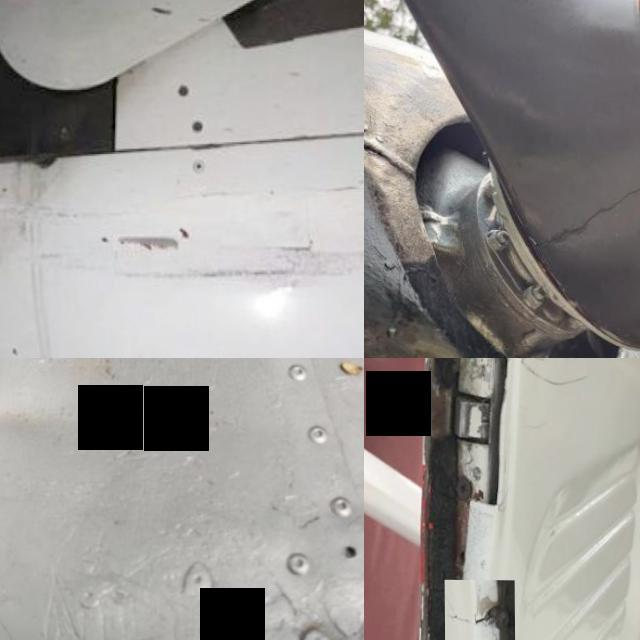Crack: (481, 358, 594, 543), (515, 152, 640, 263), (444, 579, 514, 640), (114, 234, 179, 250), (263, 234, 319, 252)
Dent: (0, 358, 91, 463)
